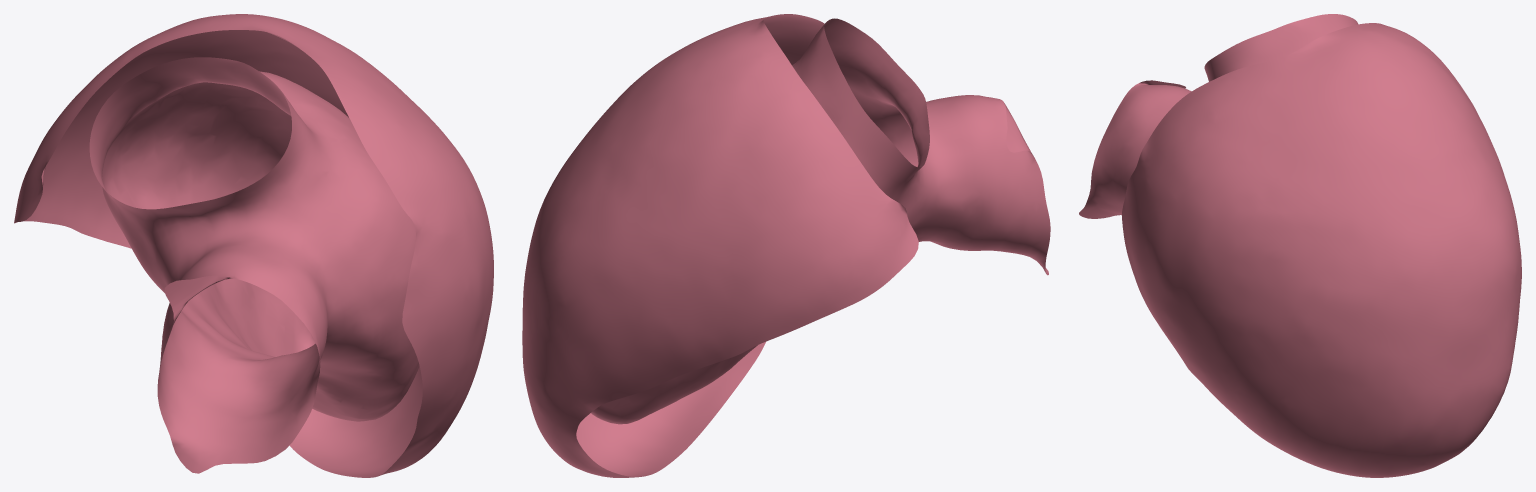
3 renders of one model, left to right at view 1: azimuth 30°, elevation 25°; view 2: azimuth 150°, elevation 25°; view 3: azimuth 270°, elevation 25°, orthographic. The views are drawn at different scales.
Parts seen in each view (by area): view 1: 左心室; view 2: 左心室; view 3: 左心室.
Boxes of the visible parts, <box> form: 左心室: <box>14,14,493,477</box>; 左心室: <box>522,14,1050,477</box>; 左心室: <box>1079,14,1521,477</box>.
Bounding box in the file's own units: 0.1177 × 0.1288 × 0.132.
